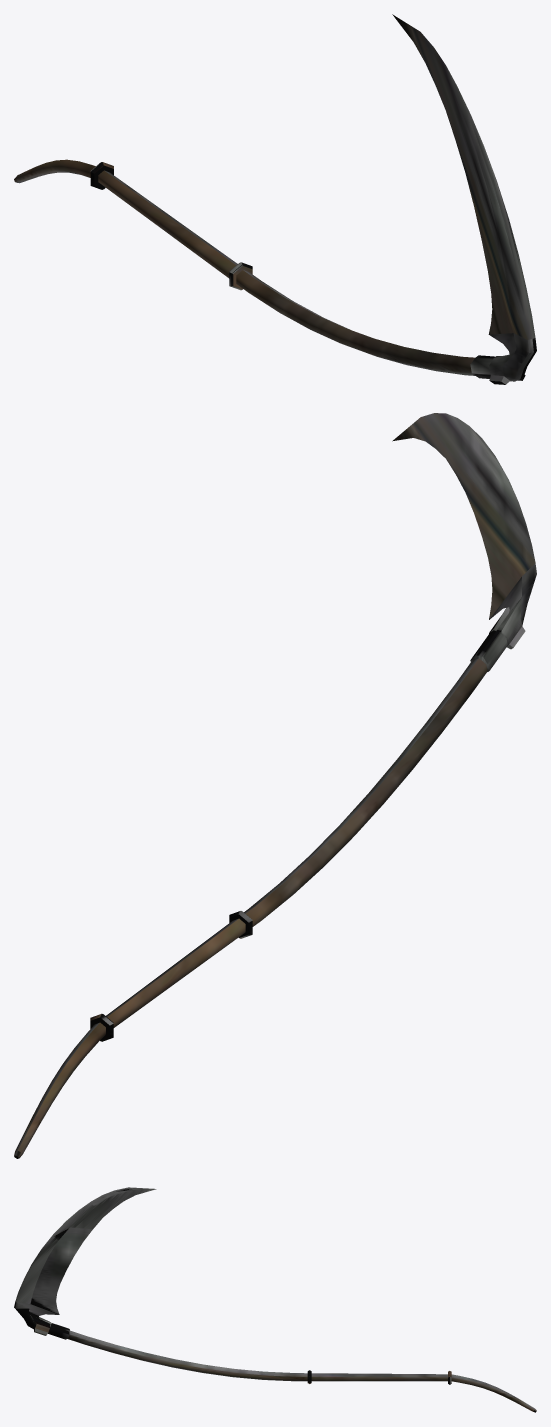
3 views of the same model, one above another, from view 1: azimuth 30°, elevation 25°; view 2: azimuth 150°, elevation 25°; view 3: azimuth 270°, elevation 25° (orthographic). The views are drawn at different scales.
Visible parts, largest first — view 1: mesh_0; view 2: mesh_0; view 3: mesh_0.
Boxes of the visible parts, x1,y1,x2,y2 form: mesh_0: (14,14,536,384); mesh_0: (14,413,536,1158); mesh_0: (14,1187,536,1412).
Size of the model in its own units: 2.65 by 46.65 by 98.17.
1 material, 1 textured.
